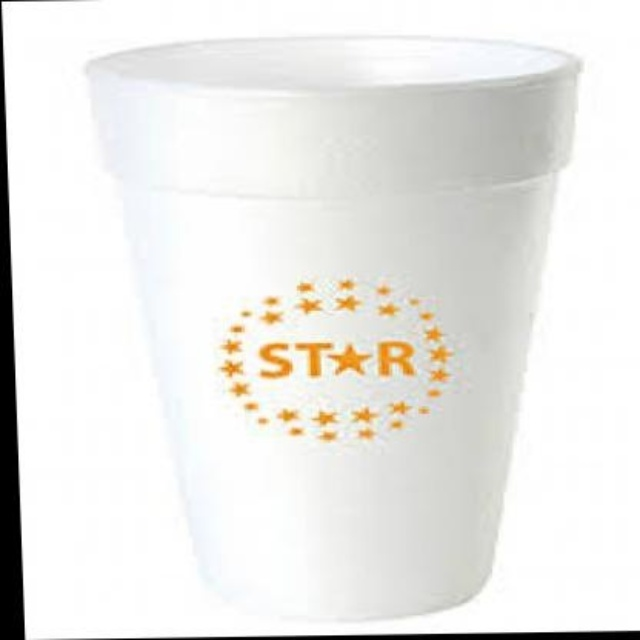trash: (89, 37, 577, 617)
